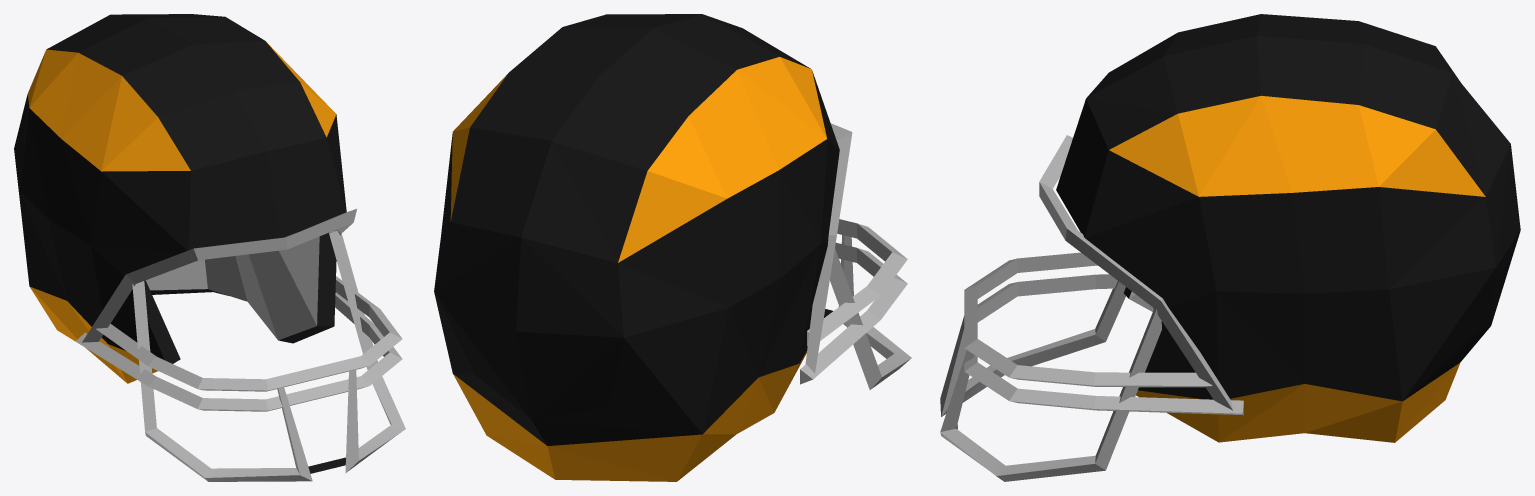
Rendered from Rugby_helm.fbx.
The picture shows the model from 3 angles, left to right: view 1: azimuth 30°, elevation 25°; view 2: azimuth 150°, elevation 25°; view 3: azimuth 270°, elevation 25°; orthographic projection. The views are drawn at different scales.
Visible parts, largest first — view 1: Rugby_helm; view 2: Rugby_helm; view 3: Rugby_helm.
Part boxes in pixels (<box>): Rugby_helm: <box>14,14,405,481</box>; Rugby_helm: <box>434,14,911,481</box>; Rugby_helm: <box>940,14,1520,481</box>.
Bounding box in the file's own units: 8.34 × 10.72 × 14.36.
